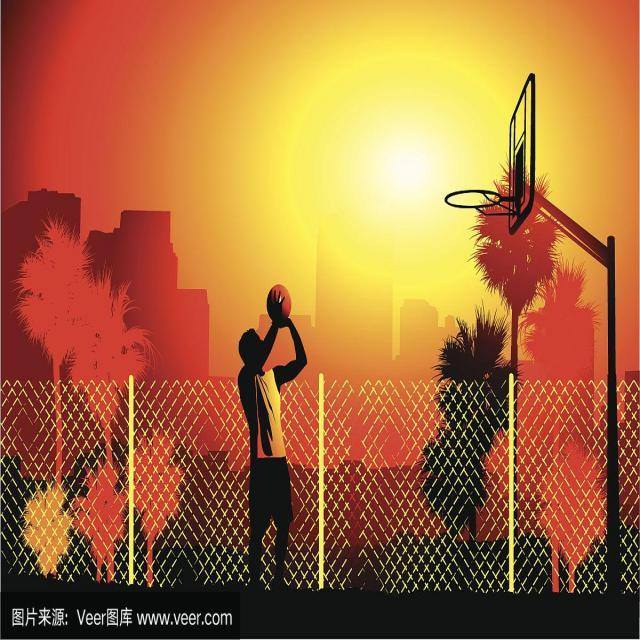rim: (267, 284, 294, 320)
